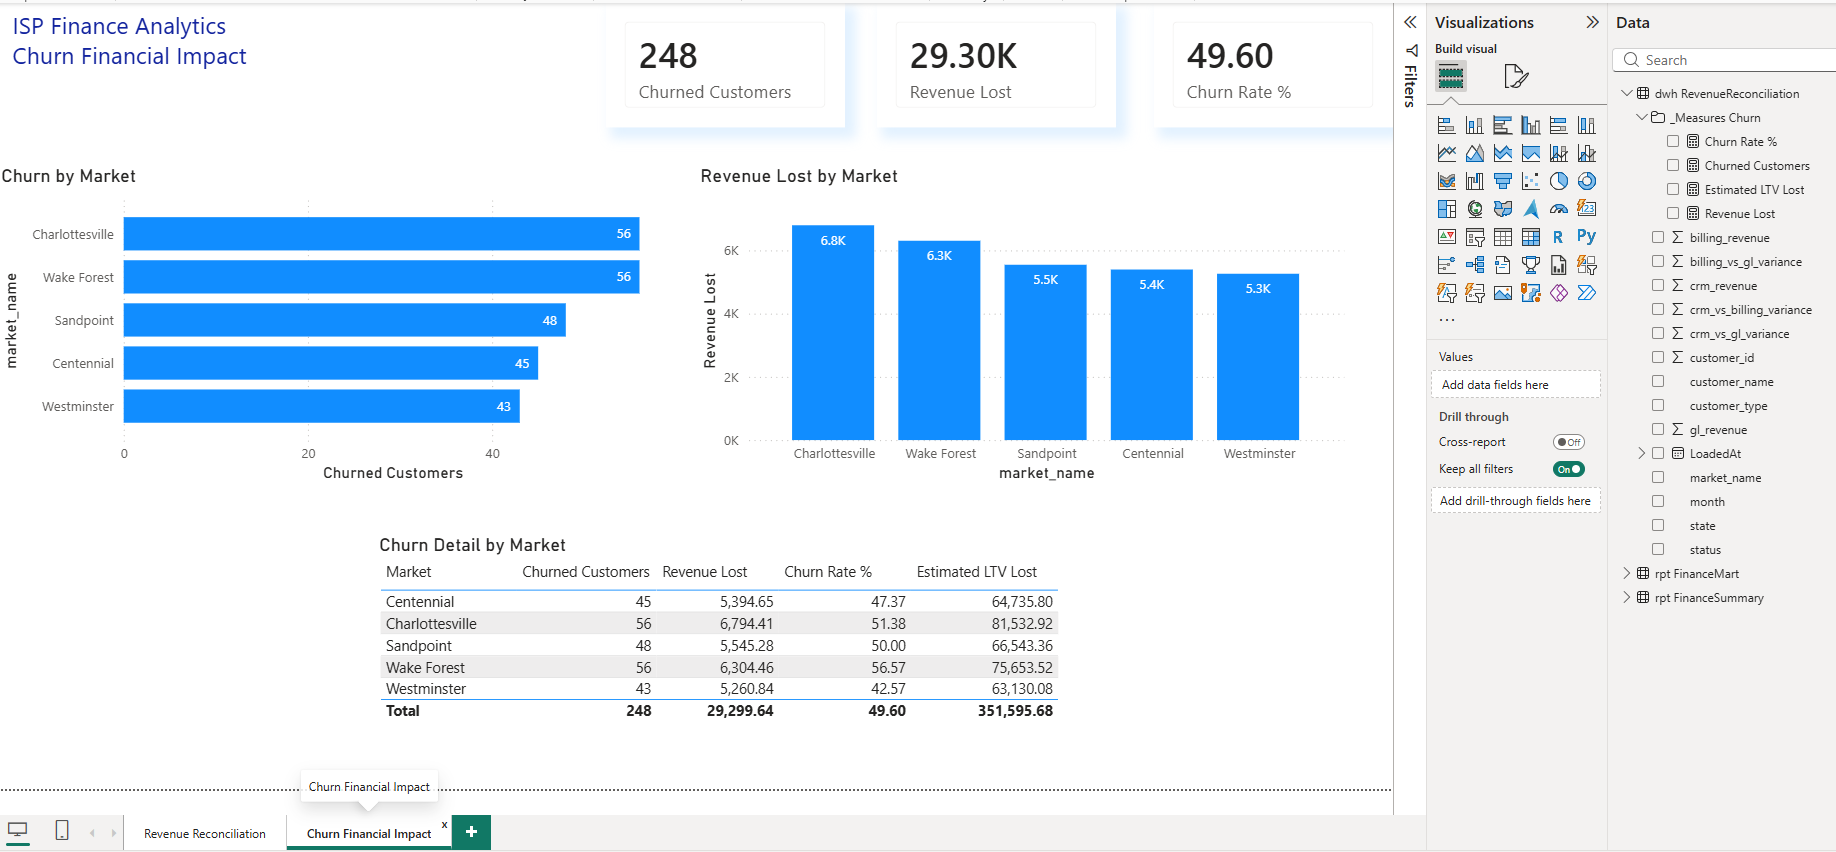

The page's visual inventory and layout, read from the dashboard file:
{"tool":"powerbi","page":{"name":"Churn Financial Impact","canvas":[1280,720],"ordinal":1},"visuals":[{"type":"textbox","box":[10.1,0,263.9,68.7],"z":0},{"type":"cardVisual","fields":{"Data":["dwh RevenueReconciliation.Churn Rate %"]},"box":[1061,0,219,113.6],"z":3},{"type":"cardVisual","fields":{"Data":["dwh RevenueReconciliation.Revenue Lost"]},"box":[807.2,0,219,113.6],"z":4},{"type":"cardVisual","fields":{"Data":["dwh RevenueReconciliation.Churned Customers"]},"box":[558.9,0,219,113.6],"z":5},{"type":"clusteredBarChart","title":"Churn by Market","fields":{"Category":["dwh RevenueReconciliation.market_name"],"Y":["dwh RevenueReconciliation.Churned Customers"]},"box":[0,148.4,623,295],"z":6},{"type":"clusteredColumnChart","title":"Revenue Lost by Market","fields":{"Category":["dwh RevenueReconciliation.market_name"],"Y":["dwh RevenueReconciliation.Revenue Lost"]},"box":[640.5,148.4,600.1,295],"z":7},{"type":"tableEx","title":"Churn Detail by Market","fields":{"Values":["dwh RevenueReconciliation.market_name","dwh RevenueReconciliation.Churned Customers","dwh RevenueReconciliation.Revenue Lost","dwh RevenueReconciliation.Churn Rate %","dwh RevenueReconciliation.Estimated LTV Lost"]},"box":[346.3,486.5,644.1,186.9],"z":8}]}

Visuals, with their boxes on the page's 1280x720 design canvas (x1, y1, x2, y2). These are canvas units, not pixel positions in the 1836x852 screenshot, which may show the page scaled, cropped or inside an application window:
textbox: x1=10 y1=0 x2=274 y2=69
cardVisual - dwh RevenueReconciliation.Churn Rate %: x1=1061 y1=0 x2=1280 y2=114
cardVisual - dwh RevenueReconciliation.Revenue Lost: x1=807 y1=0 x2=1026 y2=114
cardVisual - dwh RevenueReconciliation.Churned Customers: x1=559 y1=0 x2=778 y2=114
"Churn by Market" clusteredBarChart: x1=0 y1=148 x2=623 y2=443
"Revenue Lost by Market" clusteredColumnChart: x1=640 y1=148 x2=1241 y2=443
"Churn Detail by Market" tableEx: x1=346 y1=486 x2=990 y2=673
